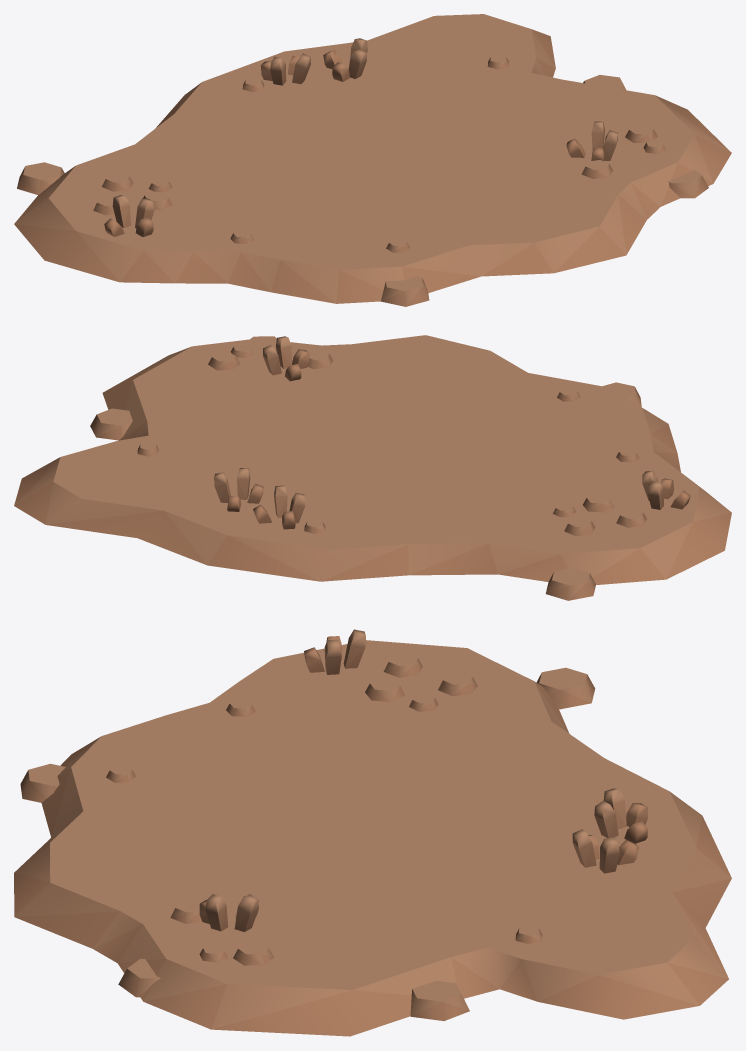
File: pirate_patch_sand_foliage.glb
The picture shows the model from 3 angles, top to bottom: view 1: azimuth 30°, elevation 25°; view 2: azimuth 150°, elevation 25°; view 3: azimuth 270°, elevation 25°; orthographic projection. The views are drawn at different scales.
Parts seen in each view (by area): view 1: pirate_patch_sand_foliage; view 2: pirate_patch_sand_foliage; view 3: pirate_patch_sand_foliage.
Boxes of the visible parts, left/top/right/bottom form: pirate_patch_sand_foliage: left=14, top=14, right=731, bottom=306; pirate_patch_sand_foliage: left=14, top=335, right=731, bottom=600; pirate_patch_sand_foliage: left=14, top=629, right=731, bottom=1036.
Size of the model in its own units: 7.74 by 0.5639 by 6.04.
